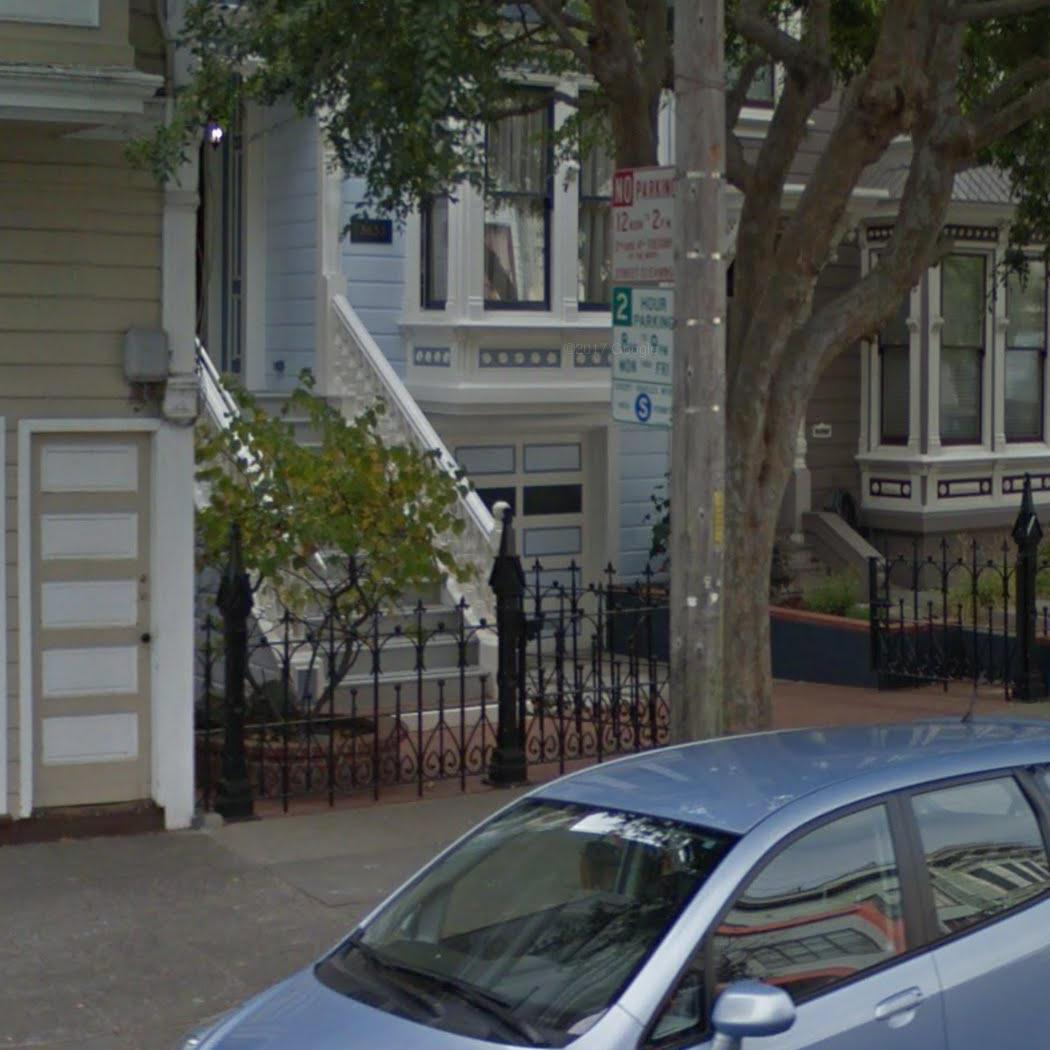2 Hour Parking: (608, 284, 679, 434)
No Parking: (607, 161, 680, 287)
